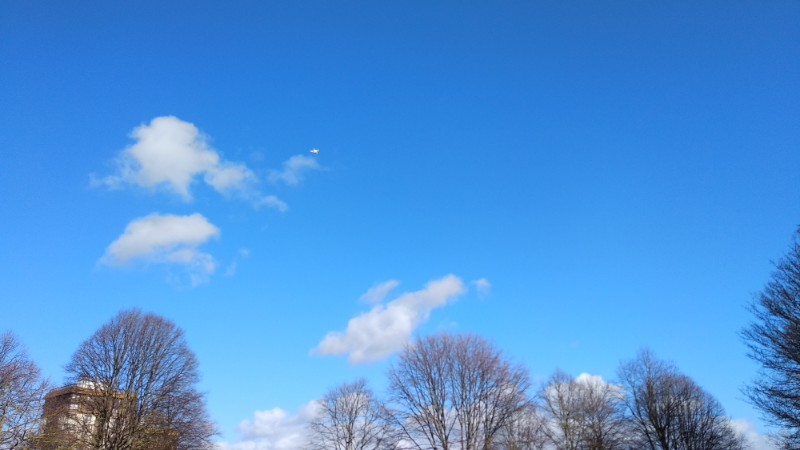drone: (308, 146, 320, 155)
